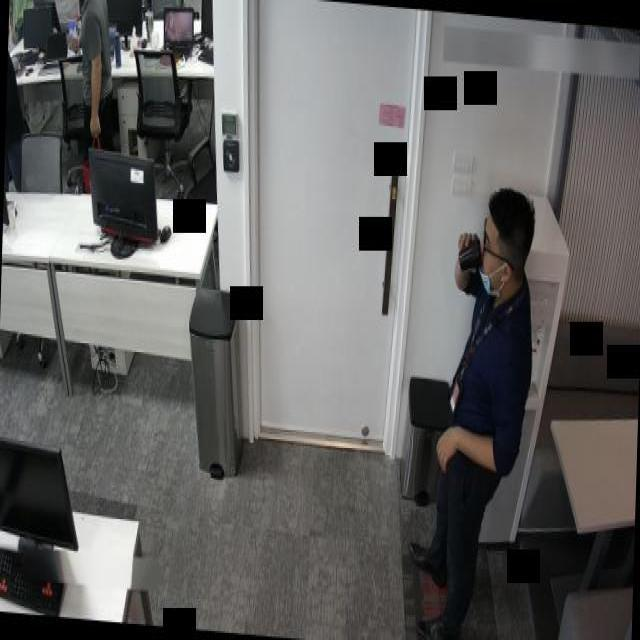hairnet: (476, 220, 502, 296)
